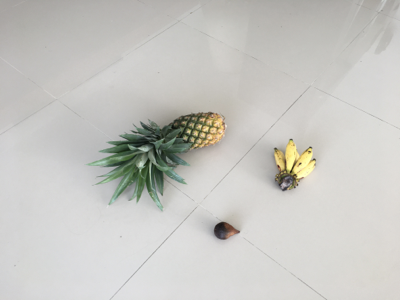banana: (274, 138, 318, 193)
pineapple: (87, 111, 228, 212)
snake fruit: (214, 222, 242, 241)
